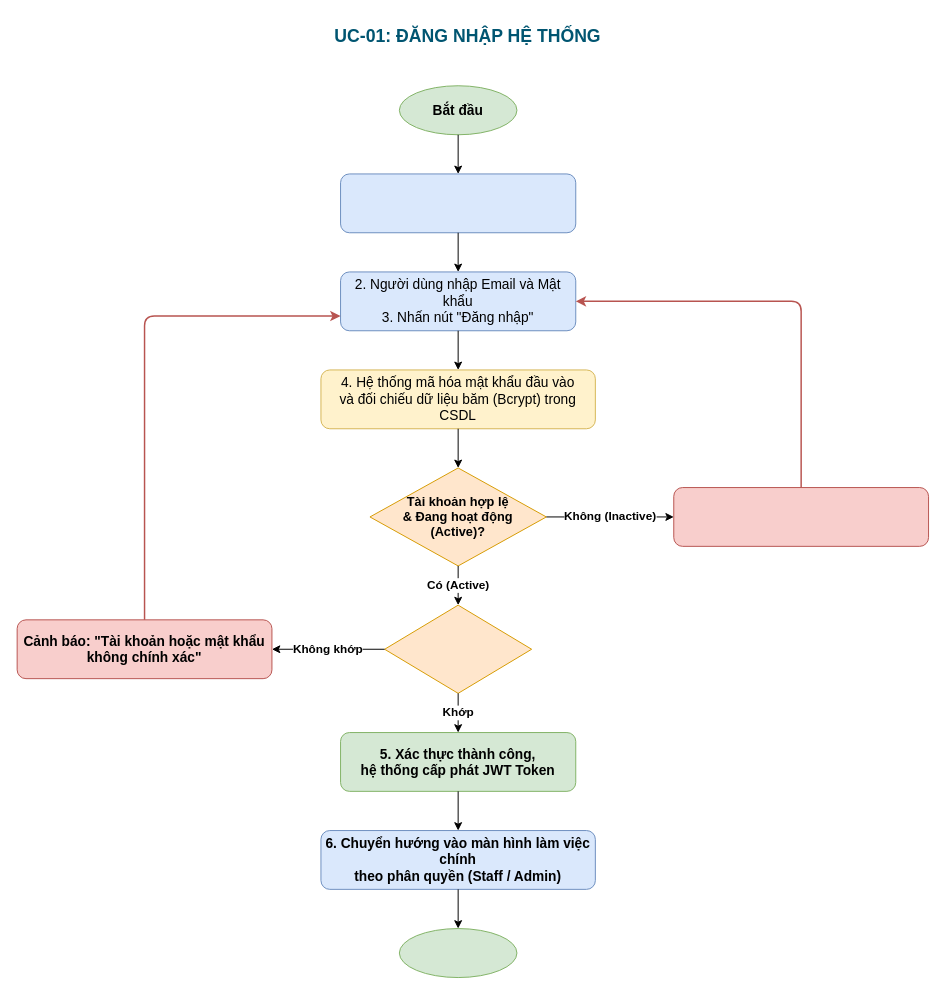
Some shapes in this 946 by 995 pixel diagram are drawn without their labels. Each missing label, with the centre of its shape:
1. Người dùng mở ứng dụng, hệ thống hiển thị màn hình đăng nhập: (x=458, y=203)
Cảnh báo: "Tài khoản đã bị vô hiệu hóa, vui lòng liên hệ Quản lý": (x=801, y=516)
Kết thúc: (x=457, y=953)
Mật khẩu trùng khớp?: (x=458, y=648)
